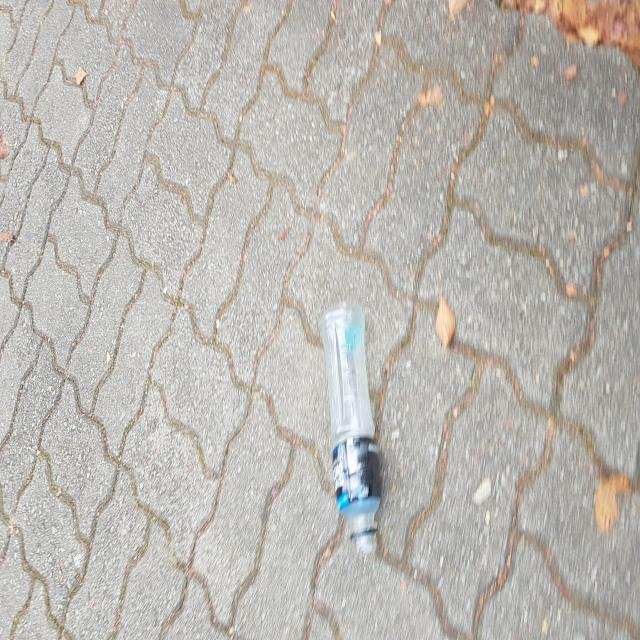plastic: (321, 302, 381, 553)
